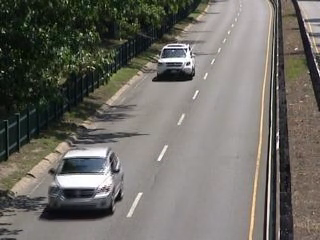car: (42, 142, 130, 215), (153, 41, 200, 84)
